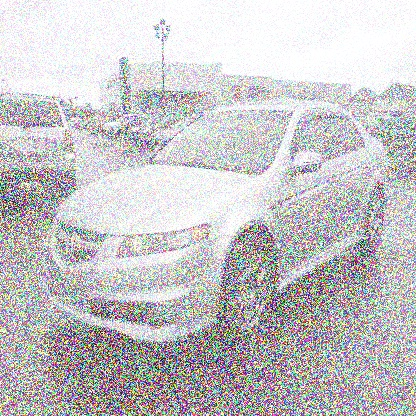Vehicle: (43, 99, 388, 353)
